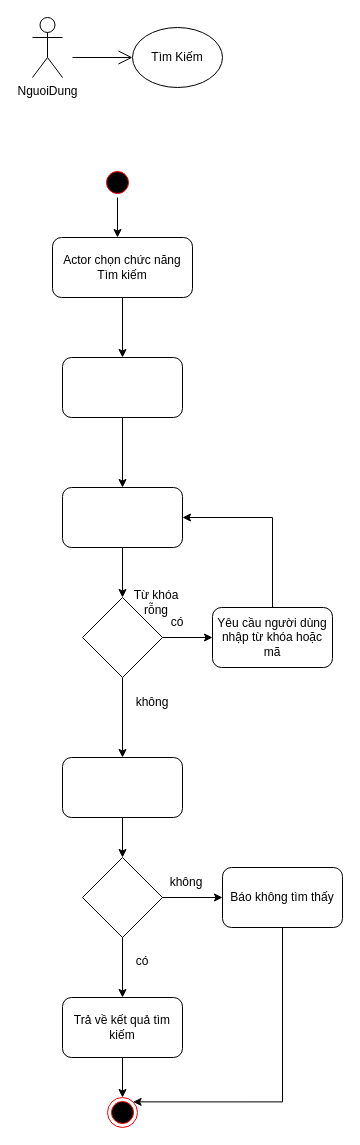
The diagram is 360 pixels wide and 1145 high, and some of its shapes have lost their labels. Each missing label, with the box of its shape:
Có kq?: (82, 856, 162, 938)
Hệ thống hiển thị ô nhập: (62, 356, 182, 418)
Hệ thống tìm trong CSDL: (62, 756, 182, 818)
Người dùng nhập từ khóa hoặc mã số hiện vật: (62, 486, 182, 548)
